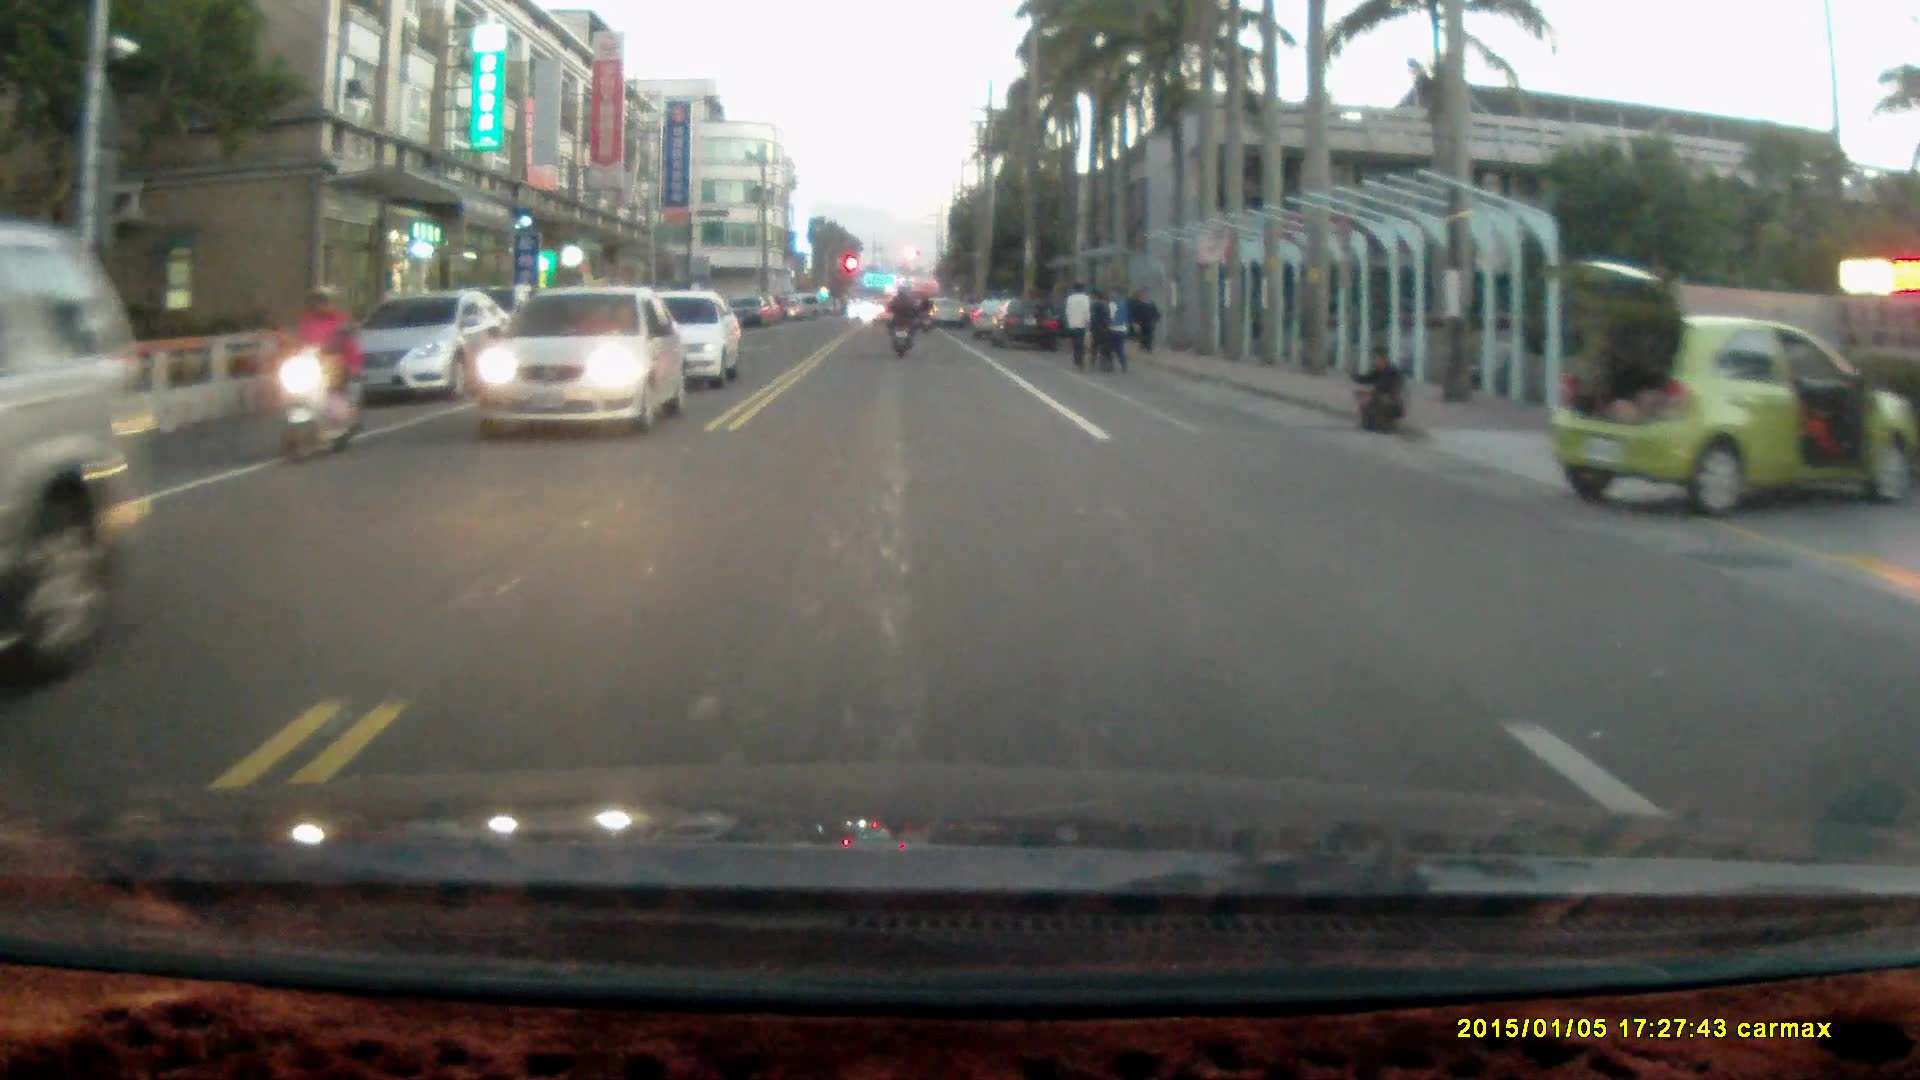pedestrian: (1346, 341, 1409, 433), (1095, 280, 1133, 376), (1063, 278, 1092, 371), (1086, 289, 1115, 376), (1131, 285, 1160, 353)
rider: (275, 281, 366, 463), (882, 285, 916, 361)
vehicle: (1539, 259, 1884, 524), (470, 282, 689, 438), (342, 290, 510, 408), (637, 290, 743, 392), (987, 296, 1063, 349)
